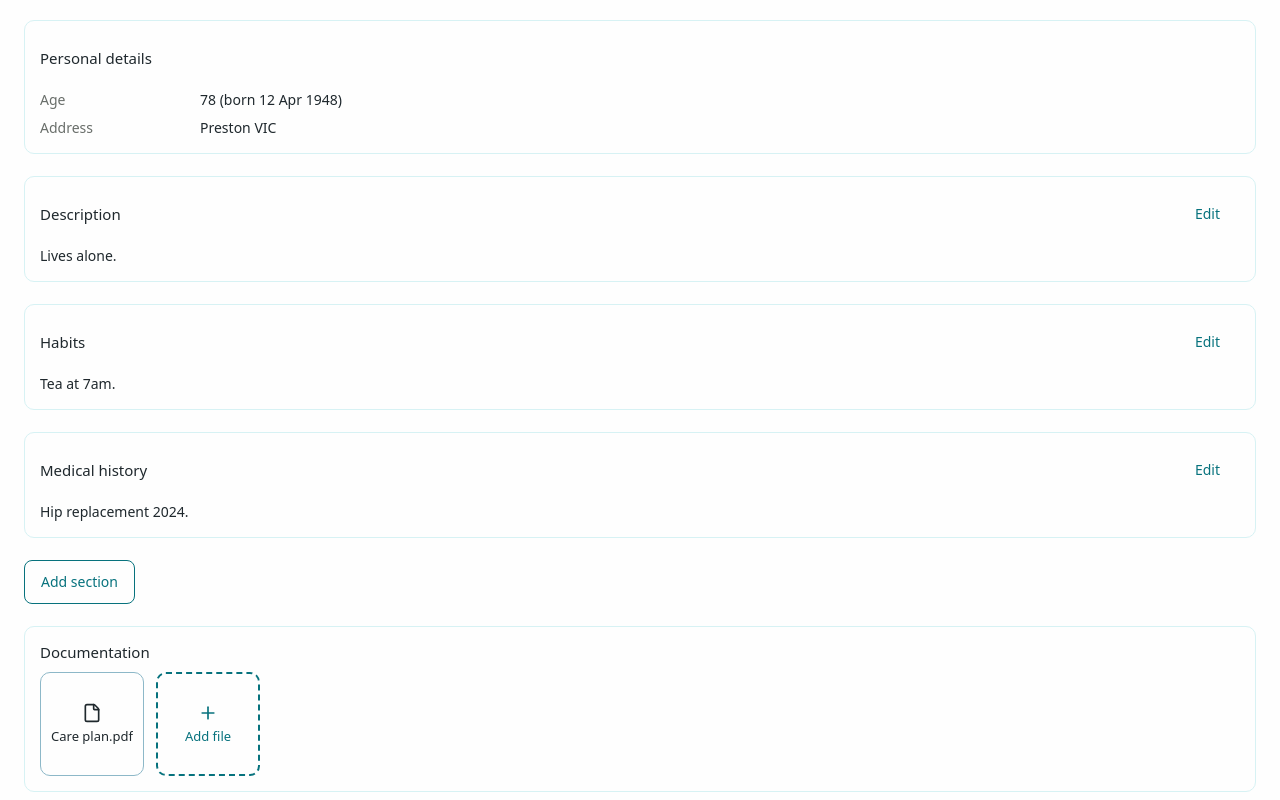
Test case: [CAR-04][AC-02] on shift the carer edits a section › [CAR-04][AC-02] Cancel saves nothing and keeps the old text
This screenshot has width=1280, height=800.
Click the button with aria-label "Edit Habits" at (1207, 342), box [1175,320,1240,364]
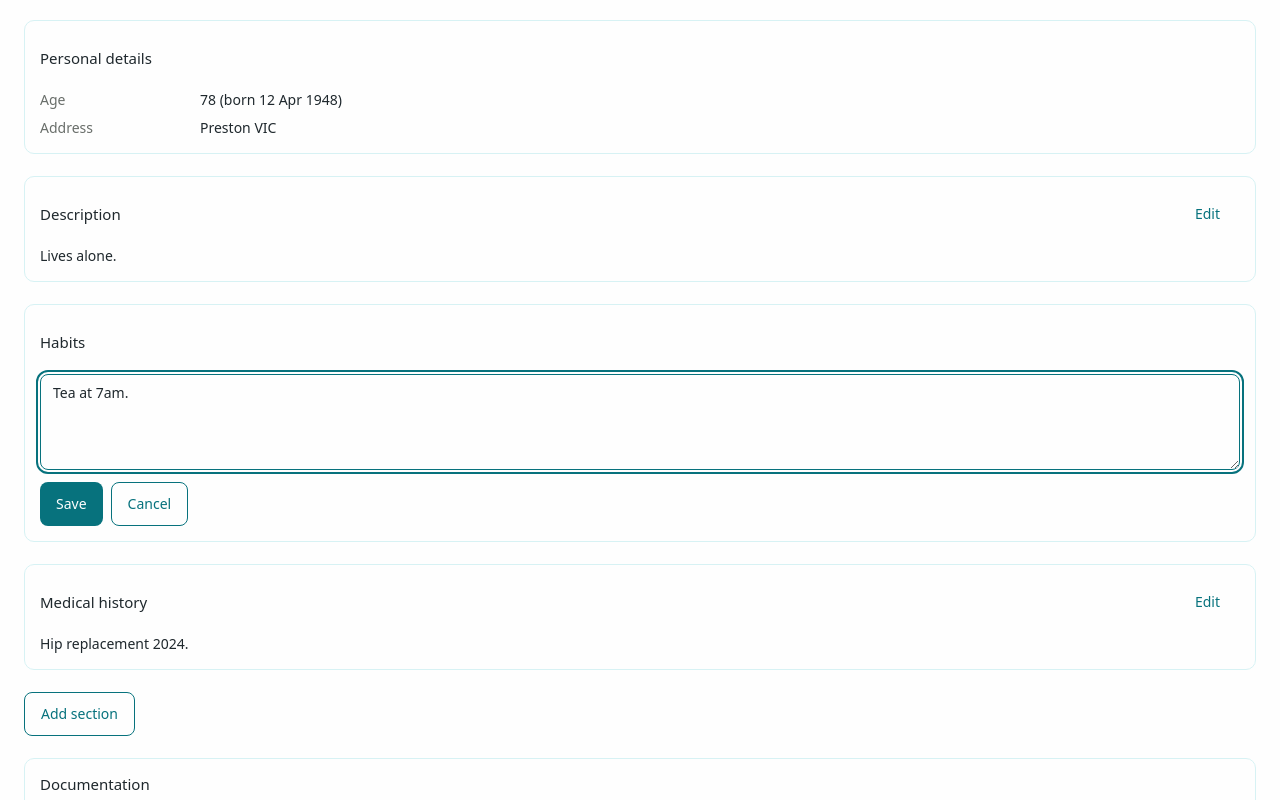
Replace the text in the text box named "Habits" with "Something else" at (640, 422), box [40,374,1240,470]
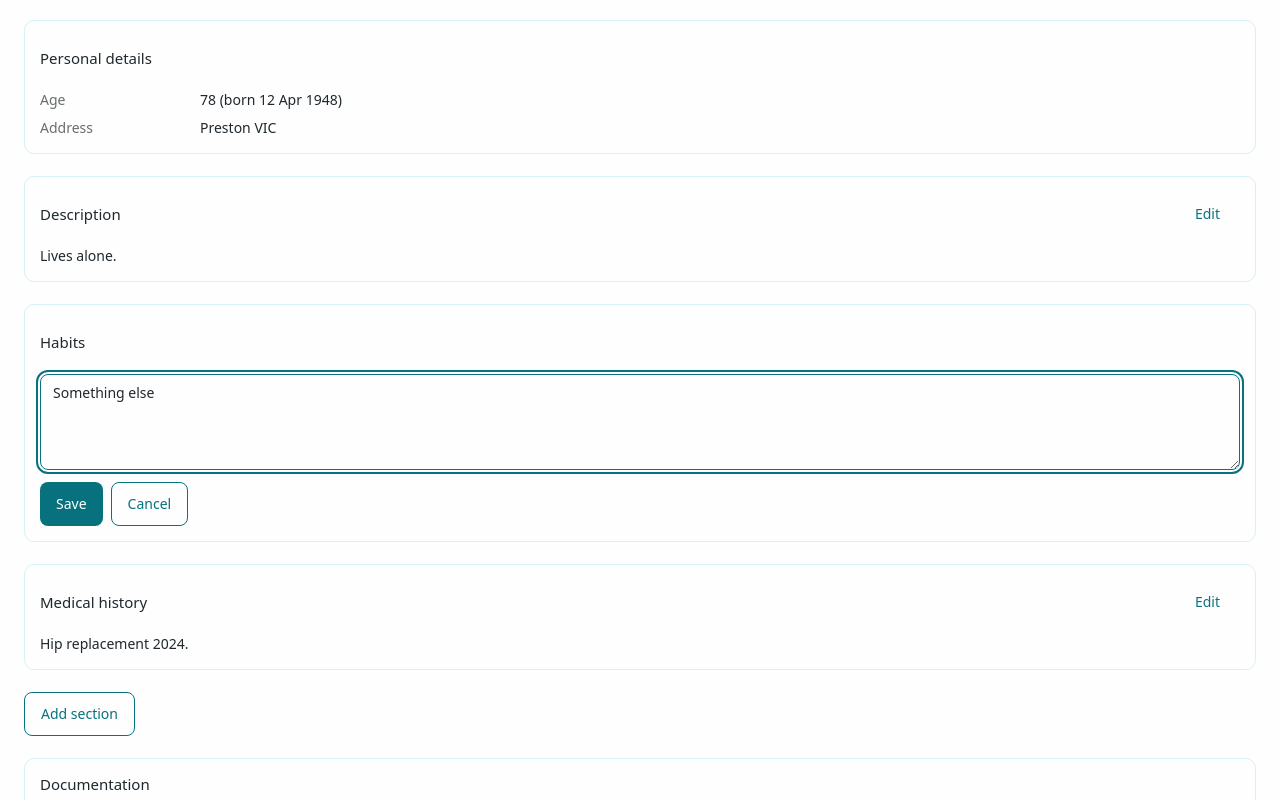
Click the button "Cancel" at (149, 504), box [111,482,188,526]
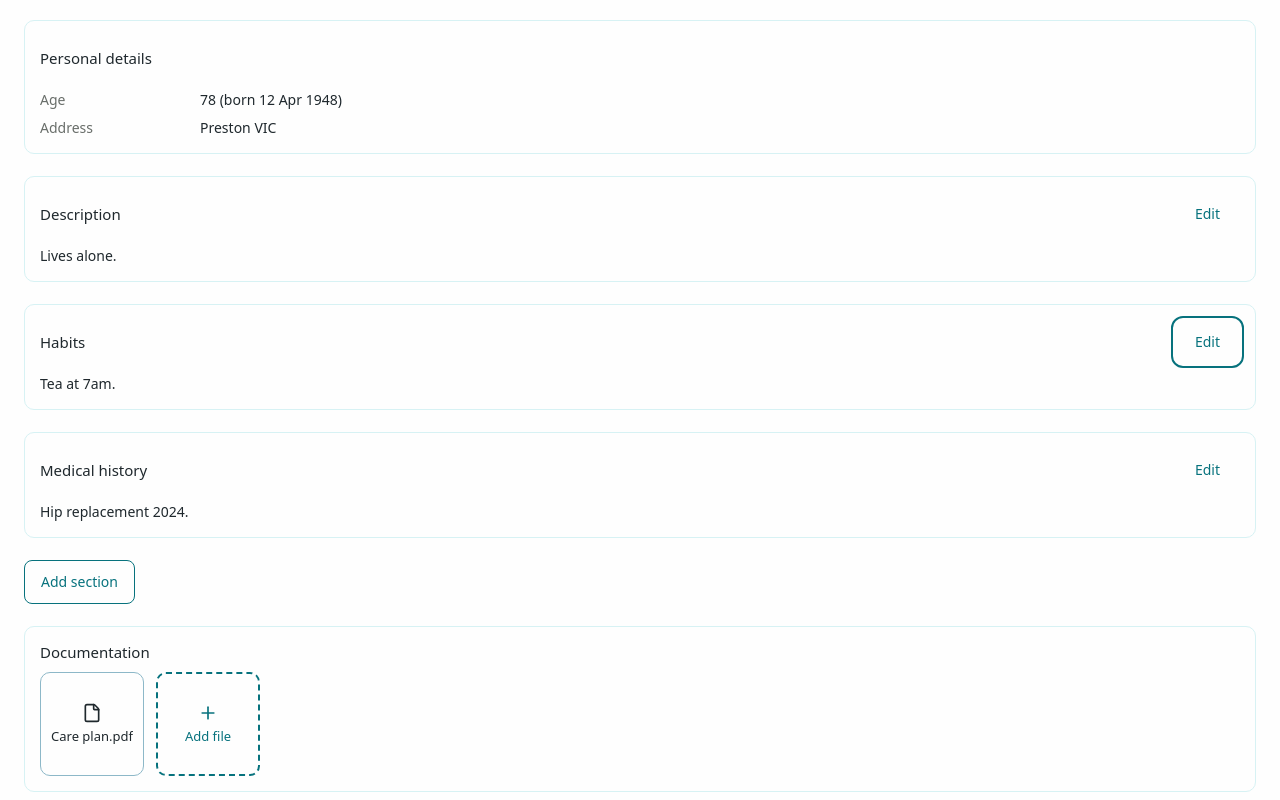
Check: the text "Tea at 7am." is shown, box [40,374,116,393]
